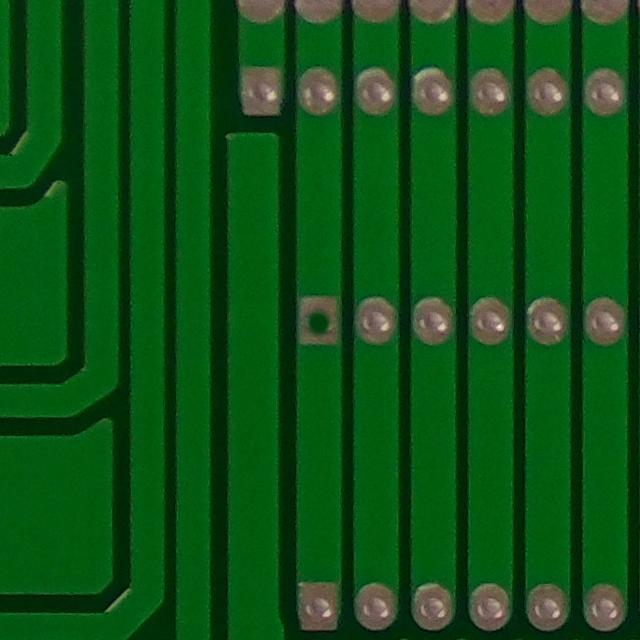missing_hole: (288, 277, 352, 364)
